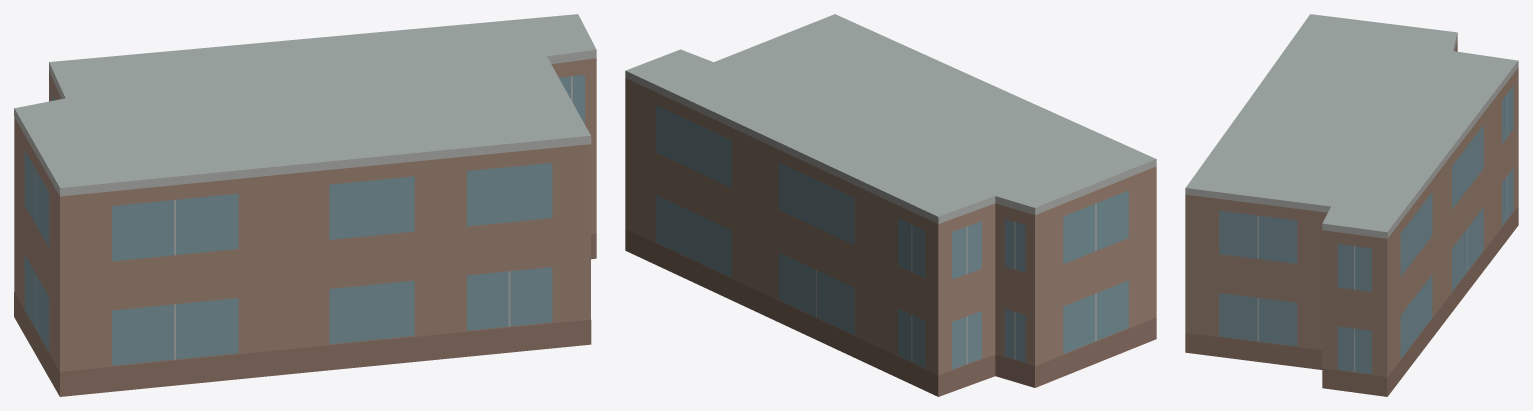
The model's file is survey-upis-32676199.glb.
3 renders of one model, left to right at view 1: azimuth 30°, elevation 25°; view 2: azimuth 150°, elevation 25°; view 3: azimuth 270°, elevation 25°, orthographic. The views are drawn at different scales.
Visible parts, largest first — view 1: survey-upis-32676199.tmp; view 2: survey-upis-32676199.tmp; view 3: survey-upis-32676199.tmp.
Part boxes in pixels (x1,y1,x2,y2): survey-upis-32676199.tmp: [14, 14, 596, 396]; survey-upis-32676199.tmp: [625, 14, 1156, 396]; survey-upis-32676199.tmp: [1185, 14, 1518, 396].
Size of the model in its own units: 17.36 by 6.1 by 11.2.
